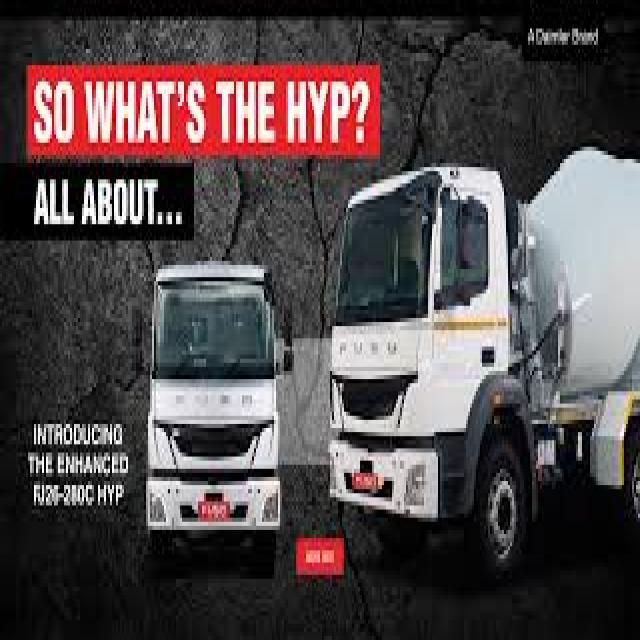Heavy Duty Truck: (328, 147, 640, 575), (144, 261, 296, 583)
